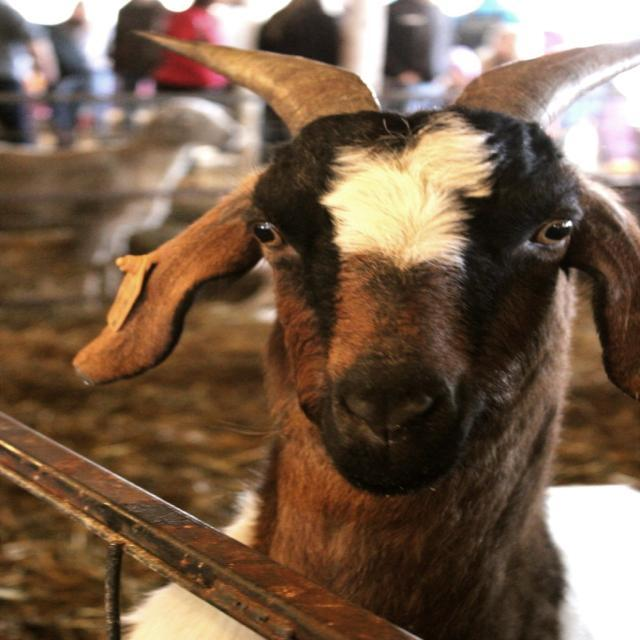Goat: (71, 29, 639, 638)
